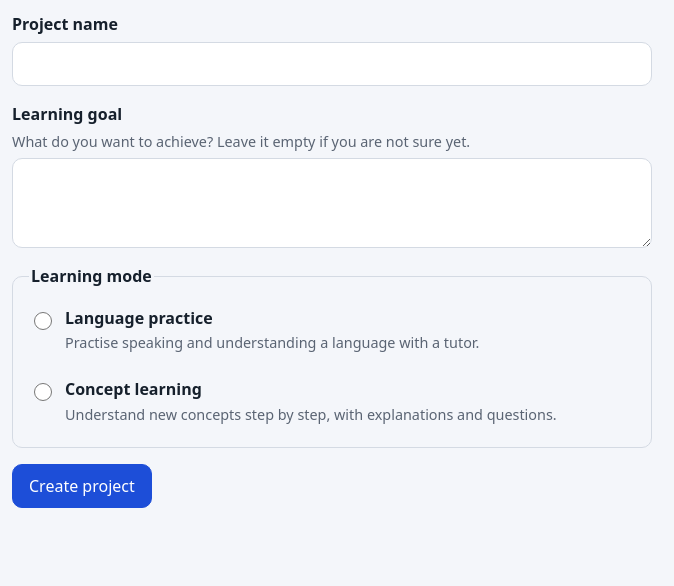
Test case: empty required fields block submission, announce errors and focus the first invalid input
Click the button "Create project": (82, 486) [12,464,152,508]
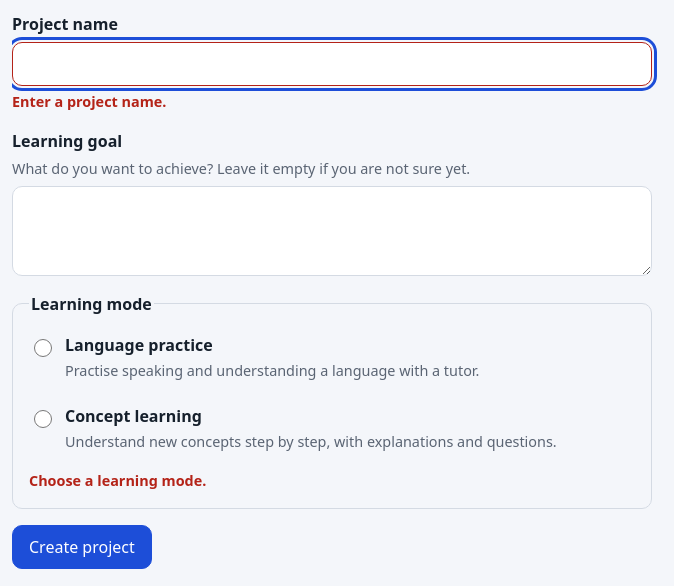
expect the messages read "Enter a project name.", "Choose a learning mode.", in this order: met, box [12,92,166,111]; [29,471,206,490]
